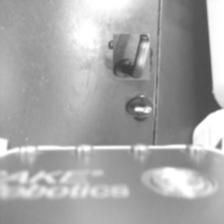Door Handle: (110, 36, 152, 78)
Lock: (127, 94, 152, 120)
